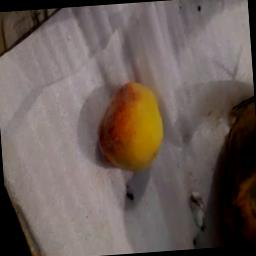Peach Ripe: (82, 70, 182, 178)
